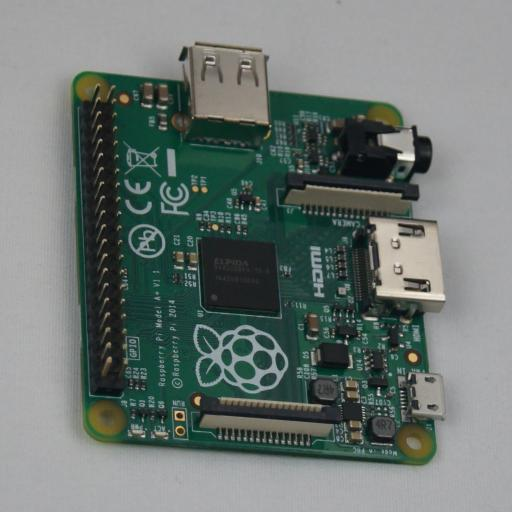Raspberry Pi A-: (71, 42, 445, 466)
